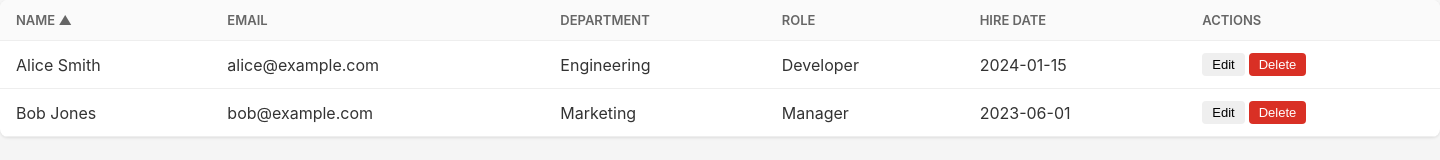
Test: EmployeeTable › should show sort indicator on active column
The image size is (1440, 160).
Expected: the column heading "Name ▲" is shown, [0,0,211,40]
# Click to sort by Department
Click the column heading "Department". click: (655, 20)
box: [544,0,766,40]
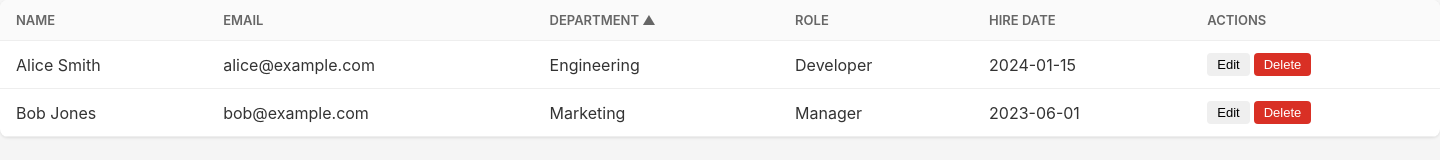
Result: the column heading "Department ▲" is shown at [534,0,779,40]
